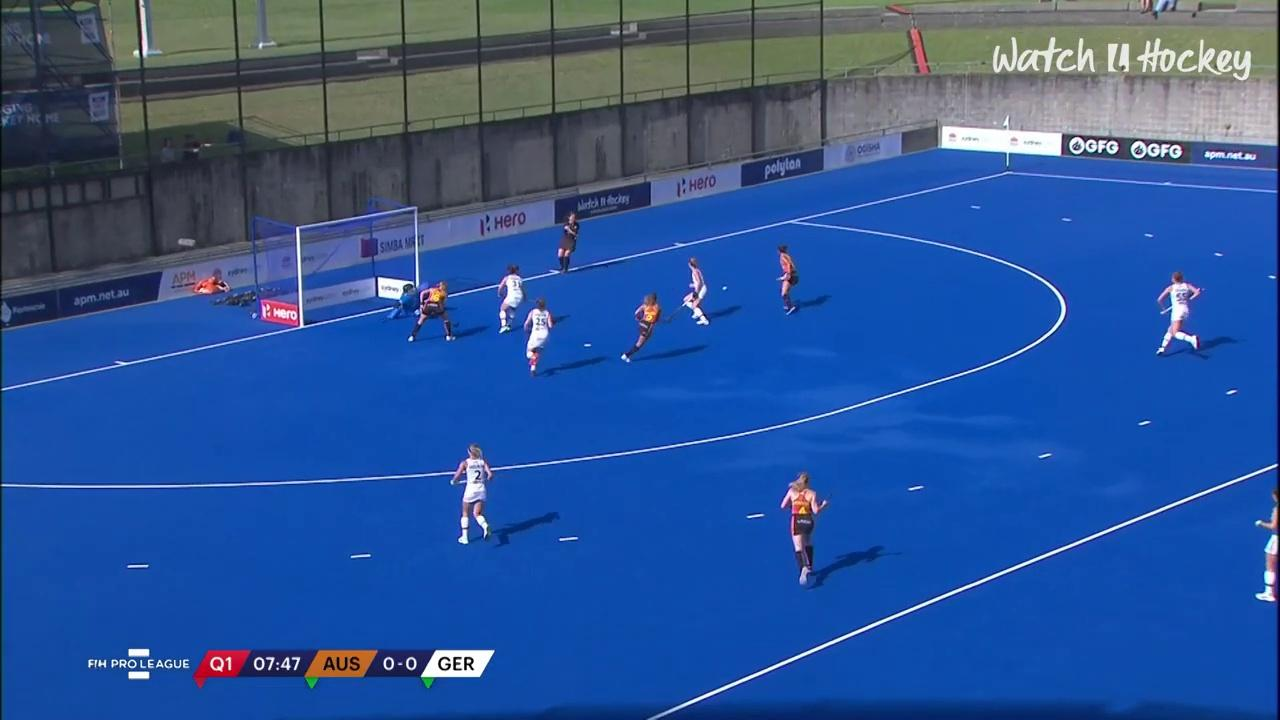ball: (719, 280, 729, 294)
